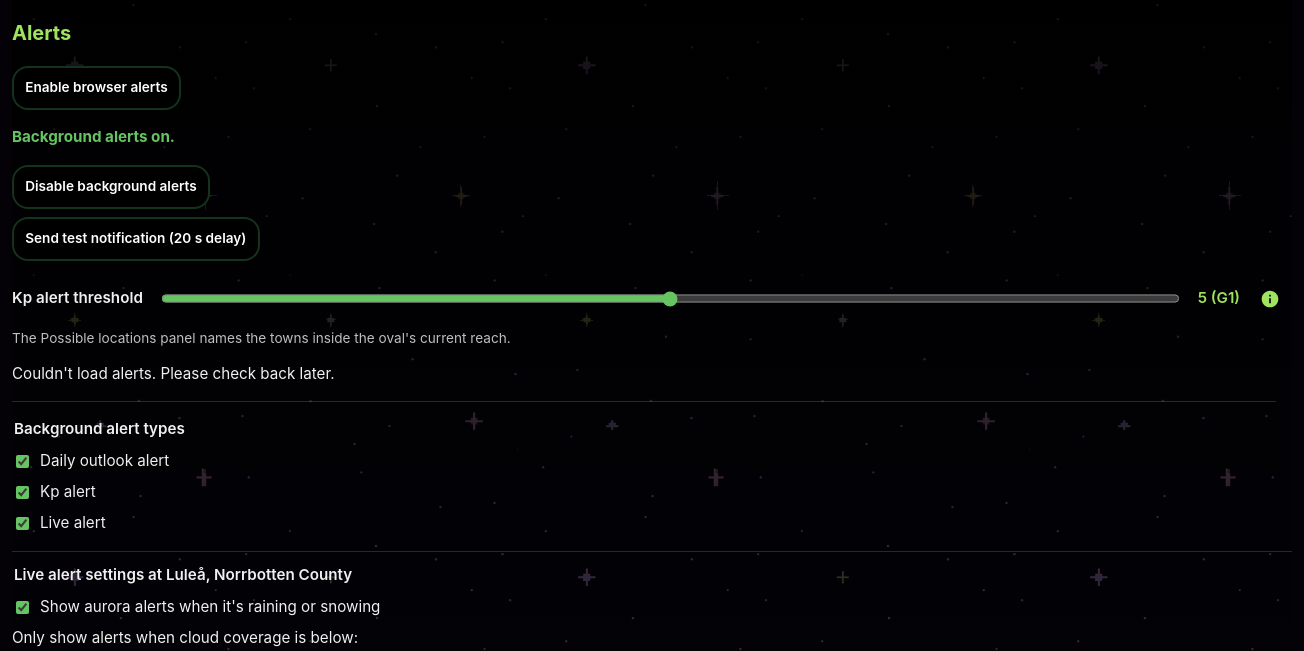
Scenario: background alerts (push foundation, ticket 02) › the held test control tells the chaser to close the app while waiting
What coordinates should you click on to do the following:
click the button "Send test notification (20 s delay)"
I would click on:
 (136, 239)
Its box is [12,217,260,261].
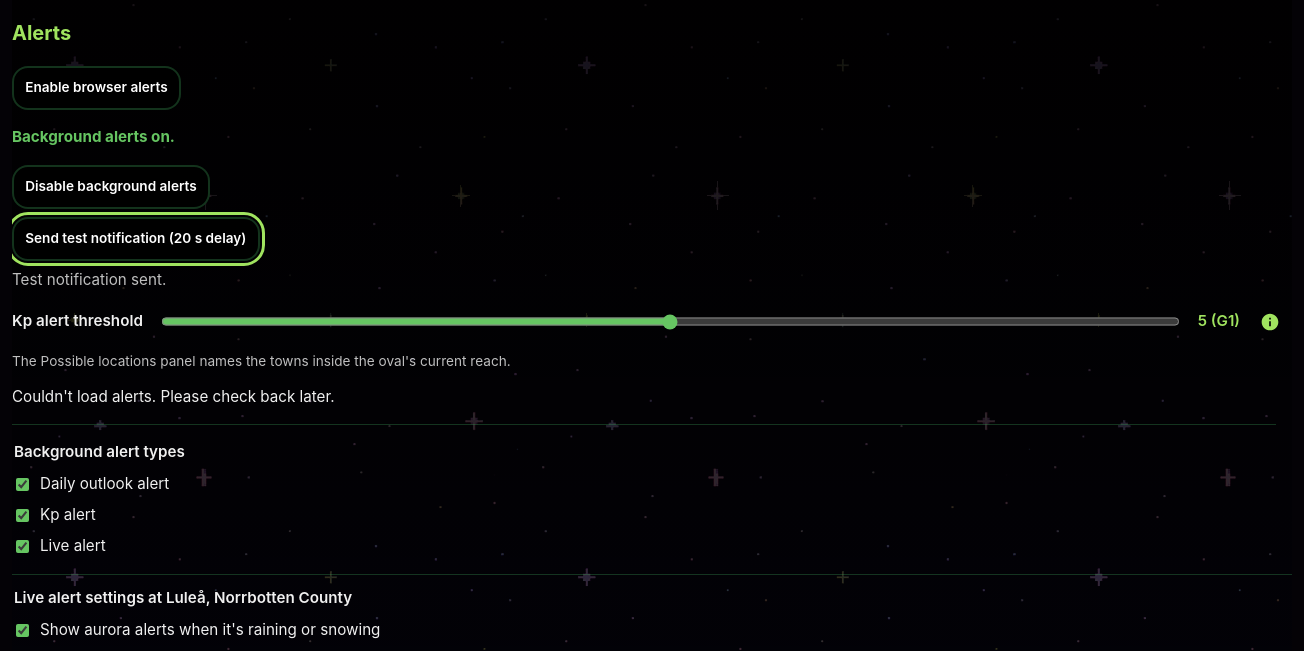
Result: the text "Test notification sent." is shown at [12,269,166,292]
